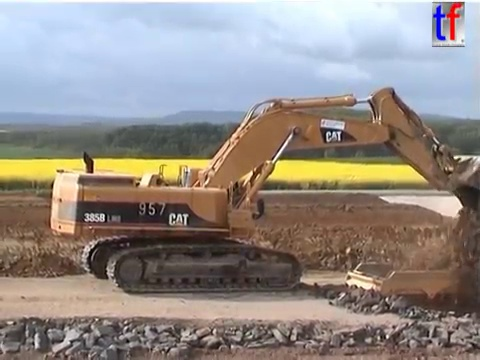excavator: (46, 84, 480, 297)
truck: (343, 259, 480, 341)
